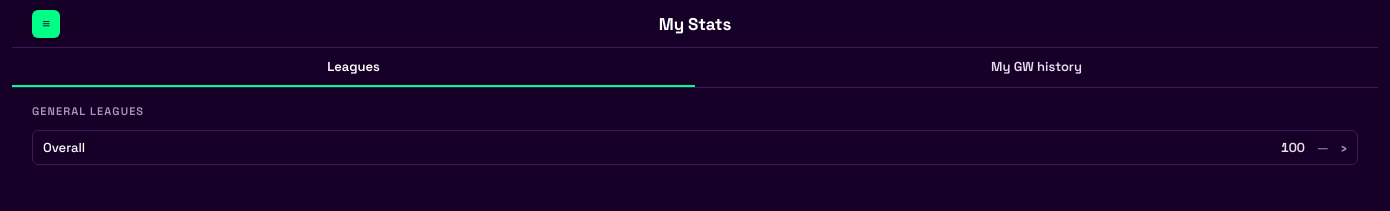
Test case: MyStatsScreen › switches to history tab on click
Click the tab "My GW history" at (1036, 68), box [695,48,1378,87]
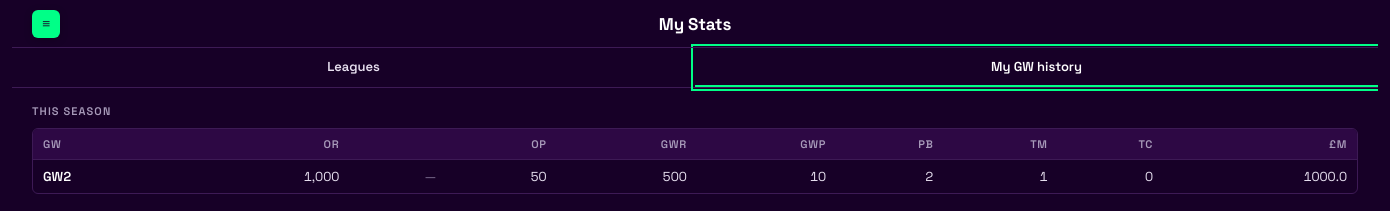
Result: the text "GW2" is shown at [33,160,180,193]
